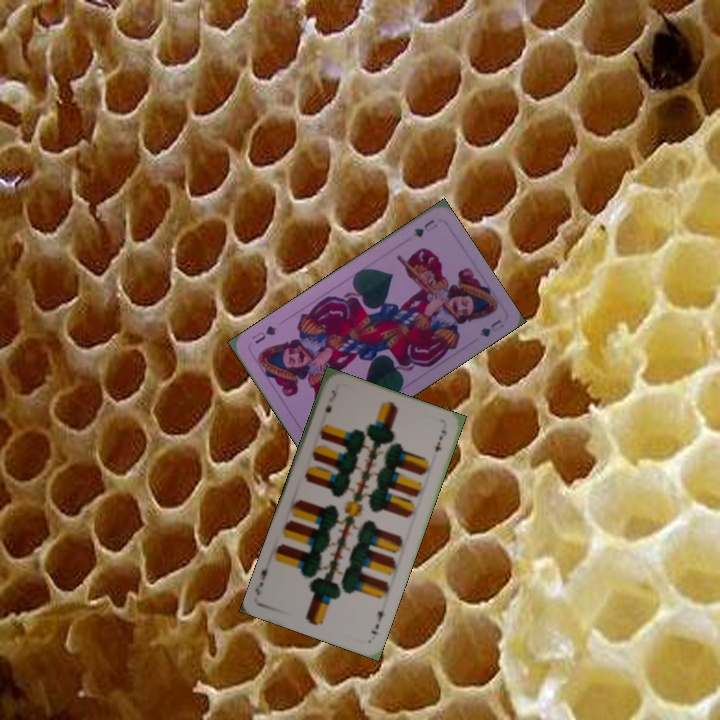E7: (367, 606, 386, 637), (321, 385, 339, 416)
GU: (409, 215, 440, 240)
